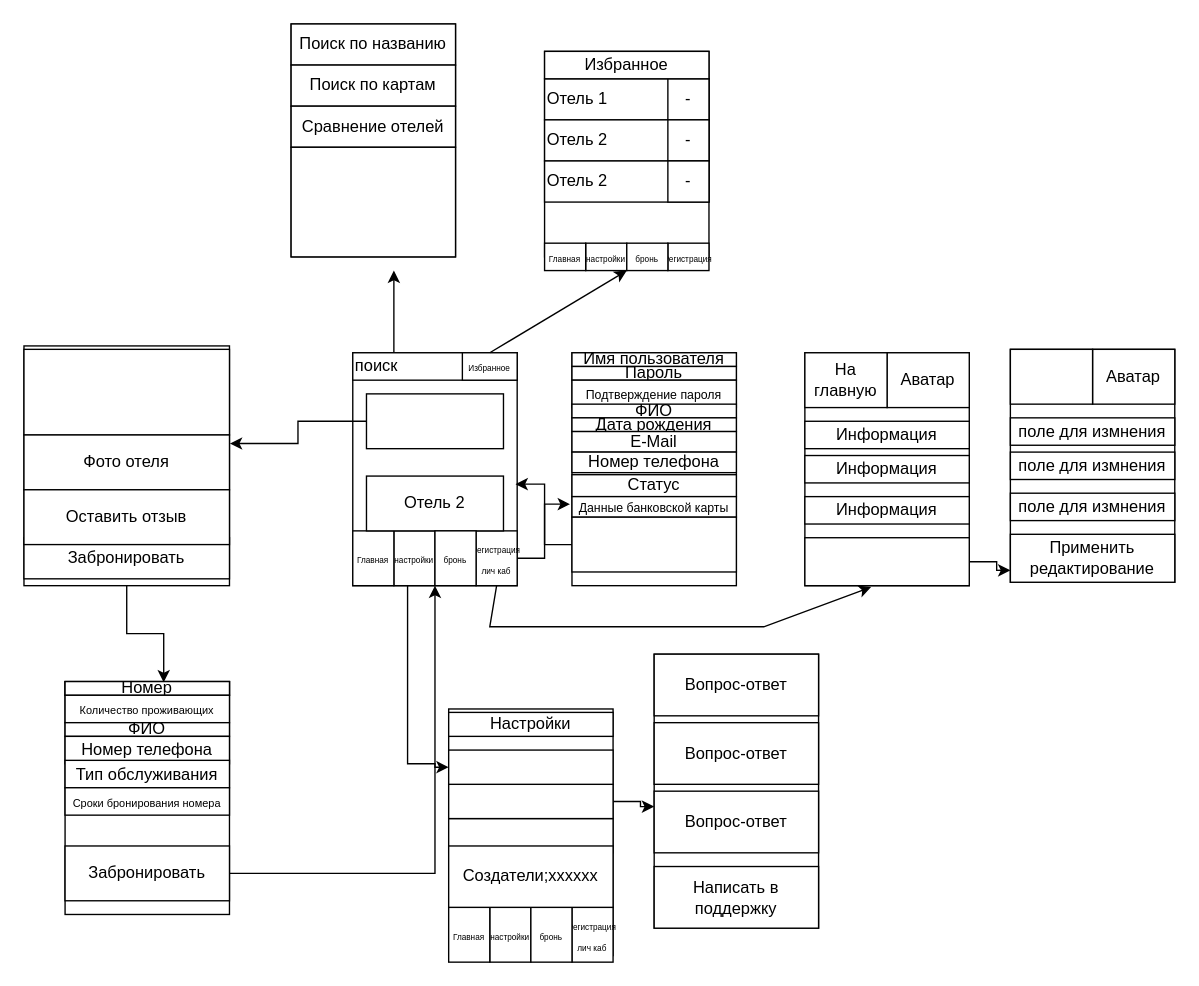
This 1199x986 diagram has some shape labels left out. The shapes that lost their labels are listed below. From the top down, each one's centre as x and y in pixels, then its label:
(x=373, y=201): История поиска
(x=126, y=391): Описание отеля текстом
(x=434, y=421): Отель1
(x=653, y=544): Подтверждение регистрации
(x=886, y=561): Редактировать профль
(x=530, y=766): Разрешения приложения
(x=530, y=801): Помощь
(x=530, y=835): Сборка:xxxxxxx
